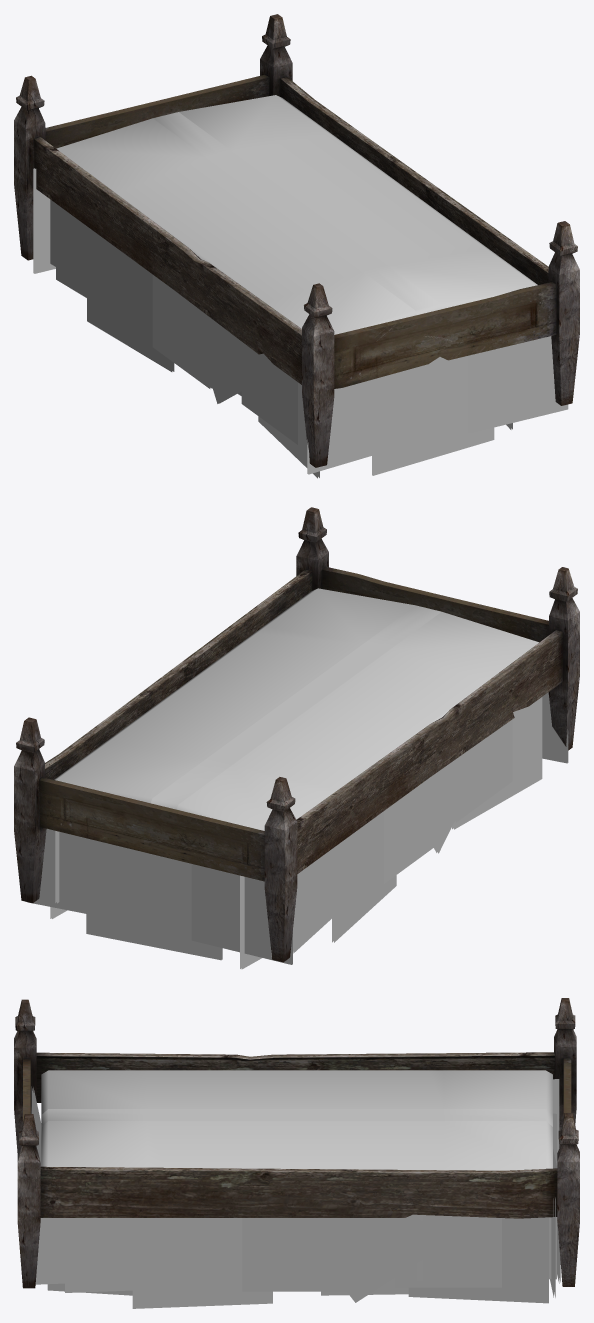
Rendered from bed_simple_moveable.dae.
3 views of the same model, one above another, from view 1: azimuth 30°, elevation 25°; view 2: azimuth 150°, elevation 25°; view 3: azimuth 270°, elevation 25° (orthographic). The views are drawn at different scales.
Visible parts, largest first — view 1: pCube1, polySurface18, polySurface24, polySurface26, polySurface25; view 2: pCube1, polySurface18, polySurface24, polySurface25, polySurface26, polySurface27; view 3: pCube1, polySurface18, polySurface21, polySurface28, polySurface25.
Boxes of the visible parts, left/top/right/bottom form: pCube1: left=56, top=95, right=537, bottom=334; polySurface18: left=14, top=14, right=579, bottom=467; polySurface24: left=50, top=199, right=319, bottom=478; polySurface26: left=307, top=336, right=568, bottom=475; polySurface25: left=33, top=168, right=55, bottom=273; pCube1: left=54, top=588, right=538, bottom=830; polySurface18: left=14, top=507, right=579, bottom=962; polySurface24: left=271, top=697, right=542, bottom=956; polySurface25: left=27, top=828, right=292, bottom=964; polySurface26: left=542, top=692, right=568, bottom=763; polySurface27: left=240, top=875, right=261, bottom=969; pCube1: left=41, top=1070, right=552, bottom=1170; polySurface18: left=14, top=998, right=579, bottom=1288; polySurface21: left=35, top=1214, right=548, bottom=1308; polySurface28: left=47, top=1215, right=556, bottom=1295; polySurface25: left=550, top=1149, right=560, bottom=1297.
Bounding box in the file's own units: 1.36 × 0.9748 × 2.58.
